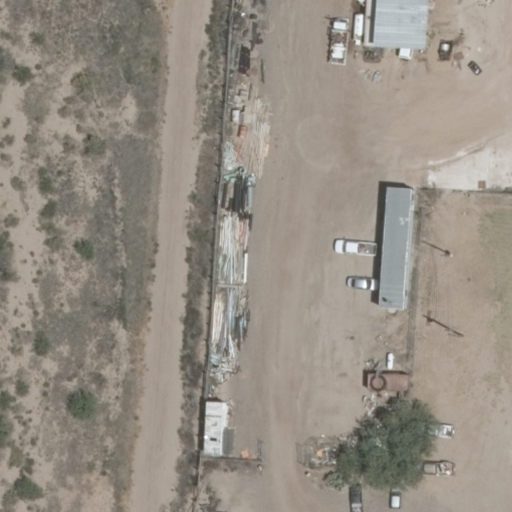DT: (441, 325, 468, 343), (439, 247, 455, 261)
